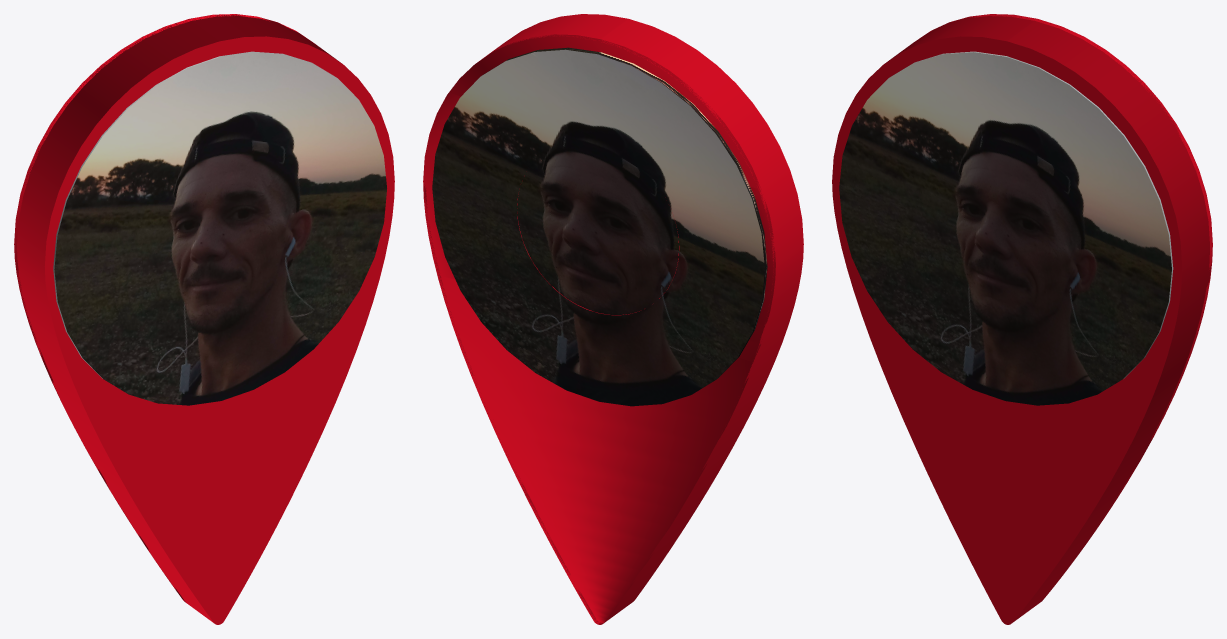
The model's file is jordan.glb.
The picture shows the model from 3 angles, left to right: view 1: azimuth 30°, elevation 25°; view 2: azimuth 150°, elevation 25°; view 3: azimuth 330°, elevation 25°; orthographic projection.
Visible parts, largest first — view 1: Cylindre, Curve; view 2: Cylindre, Curve; view 3: Cylindre, Curve.
Part boxes in pixels (<box>): Cylindre: <box>53,51,386,405</box>; Curve: <box>14,14,394,624</box>; Cylindre: <box>432,47,767,406</box>; Curve: <box>423,14,803,624</box>; Cylindre: <box>839,51,1173,405</box>; Curve: <box>832,14,1212,624</box>.
Bounding box in the file's own units: 0.2766 × 0.4404 × 0.0448.
Materials: 2 (1 with a texture image).
